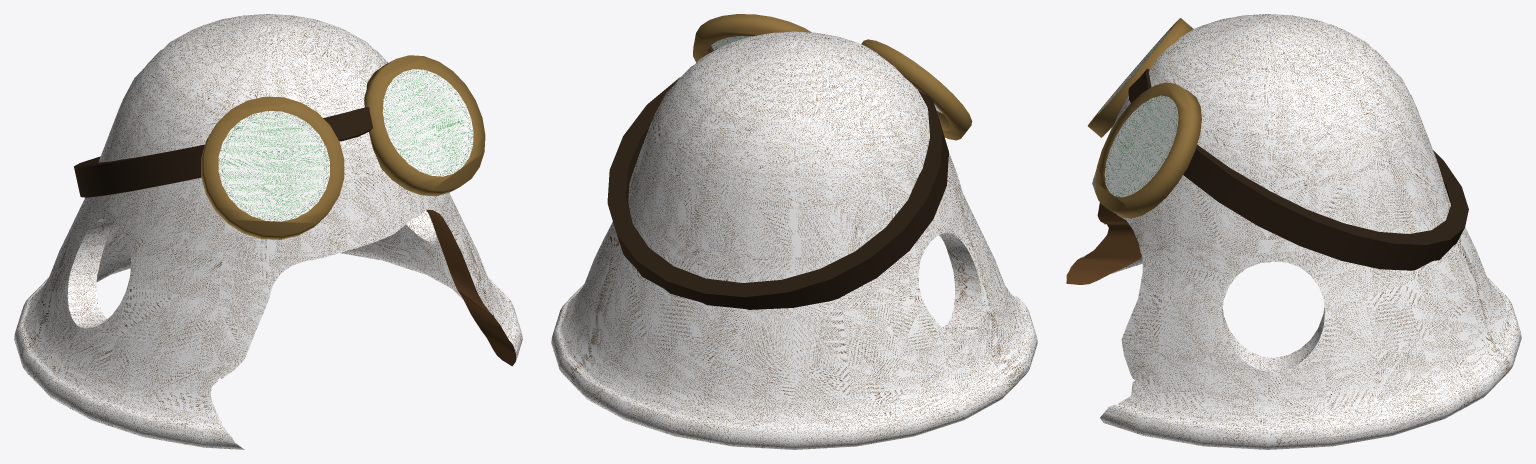
Rendered from Midgel's Hat.dae.
3 views of the same model, side by side, from view 1: azimuth 30°, elevation 25°; view 2: azimuth 150°, elevation 25°; view 3: azimuth 270°, elevation 25° (orthographic). The views are drawn at different scales.
Parts seen in each view (by area): view 1: SketchUp (×11); view 2: SketchUp (×5); view 3: SketchUp (×7).
Boxes of the visible parts, box(x1,y1,x2,y2) form: SketchUp (×11): box(14, 14, 522, 449); SketchUp (×5): box(551, 14, 1037, 449); SketchUp (×7): box(1066, 14, 1521, 449).
Bounding box in the file's own units: 2326 × 2089 × 1590.
